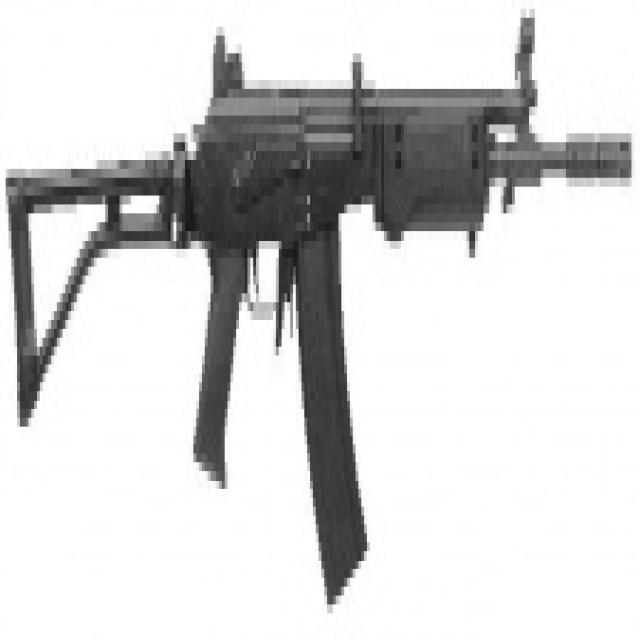rifle: (1, 1, 635, 640)
